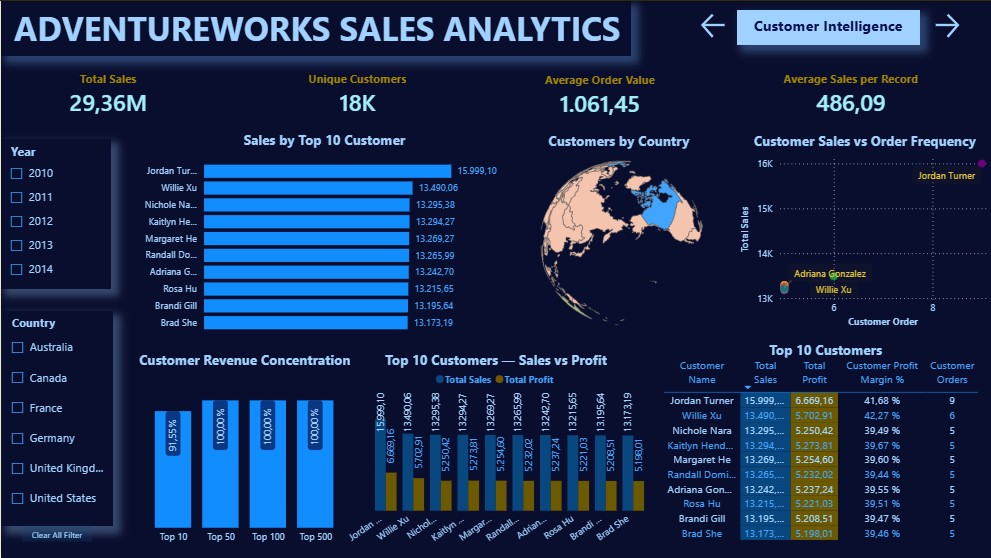

The dashboard page shown, as its layout file describes it:
{"tool":"powerbi","page":{"name":"Customer Intelligence","canvas":[1280,720],"ordinal":2},"visuals":[{"type":"cardVisual","fields":{"Data":["sales_featured.Average Order Value"]},"box":[638.2,72.6,268.5,96],"z":0,"group":"g1"},{"type":"slicer","fields":{"Values":["DimDate.Year"]},"box":[0,177.8,142.4,192.9],"z":0},{"type":"group","id":"g1","title":"Group 1","box":[0.8,70.9,1243.6,97.7],"z":1000},{"type":"textbox","box":[0,0,813.1,71.3],"z":2000},{"type":"cardVisual","fields":{"Data":["sales_featured.Total Sales"]},"box":[0.8,70.9,274.3,96],"z":2000,"group":"g1"},{"type":"cardVisual","fields":{"Data":["sales_featured.Unique Customers"]},"box":[261.2,71.3,396.1,96],"z":3000,"group":"g1"},{"type":"slicer","fields":{"Values":["sales_featured.Country"]},"box":[1.5,400,142.5,277.8],"z":3000},{"type":"textbox","box":[949.8,11.6,235.6,45.1],"z":4000},{"type":"cardVisual","fields":{"Data":["sales_featured.Average Sales per Record"]},"box":[949.5,71.1,294.9,96],"z":4000,"group":"g1"},{"type":"clusteredBarChart","title":"Sales by Top 10 Customer","fields":{"Category":["sales_featured.Customer Name"],"Y":["sales_featured.Total Sales"]},"box":[168.4,166.7,496.8,271.2],"z":5000},{"type":"shapeMap","title":"Customers by Country","fields":{"Category":["sales_featured.Country"],"Value":["sales_featured.Unique Customers"]},"box":[666.2,167.3,263.3,258.9],"z":6000},{"type":"lineClusteredColumnComboChart","title":"Customer Revenue Concentration","fields":{"Category":["Customer Concentration.Customer Group"],"Y":["Customer Concentration.Customer Concentration %"]},"box":[168.4,449.7,291.4,259.4],"z":7000},{"type":"clusteredColumnChart","title":"Top 10 Customers — Sales vs Profit","fields":{"Category":["sales_featured.Customer Name"],"Y":["sales_featured.Total Sales","sales_featured.Total Profit"]},"box":[427.8,449.7,421.1,259.4],"z":8000},{"type":"scatterChart","title":"Customer Sales vs Order Frequency","fields":{"Y":["sales_featured.Total Sales"],"X":["sales_featured.Customer Orders"],"Category":["sales_featured.Customer Name"]},"box":[949.8,167.3,330.2,258.9],"z":9000},{"type":"tableEx","title":"Top 10 Customers","fields":{"Values":["sales_featured.Customer Name","sales_featured.Total Sales","sales_featured.Total Profit","sales_featured.Customer Profit Margin %","sales_featured.Customer Orders"]},"box":[849.5,437.8,430.5,270.5],"z":10000},{"type":"actionButton","box":[1200,11.6,43.6,40.7],"z":11000},{"type":"actionButton","box":[897.5,11.6,43.6,40.7],"z":12000},{"type":"actionButton","box":[27.6,677.8,90.2,20.4],"z":12500}]}

Visuals, with their boxes in screenshot pixels (x1, y1, x2, y2), scaled from the page's 1280x720 canvas onto the 991x558 screenshot:
cardVisual - sales_featured.Average Order Value: <region>494, 56, 702, 131</region>
slicer - DimDate.Year: <region>0, 138, 110, 287</region>
"Group 1" group: <region>1, 55, 963, 131</region>
textbox: <region>0, 0, 630, 55</region>
cardVisual - sales_featured.Total Sales: <region>1, 55, 213, 129</region>
cardVisual - sales_featured.Unique Customers: <region>202, 55, 509, 130</region>
slicer - sales_featured.Country: <region>1, 310, 111, 525</region>
textbox: <region>735, 9, 918, 44</region>
cardVisual - sales_featured.Average Sales per Record: <region>735, 55, 963, 130</region>
"Sales by Top 10 Customer" clusteredBarChart: <region>130, 129, 515, 339</region>
"Customers by Country" shapeMap: <region>516, 130, 720, 330</region>
"Customer Revenue Concentration" lineClusteredColumnComboChart: <region>130, 349, 356, 550</region>
"Top 10 Customers — Sales vs Profit" clusteredColumnChart: <region>331, 349, 657, 550</region>
"Customer Sales vs Order Frequency" scatterChart: <region>735, 130, 990, 330</region>
"Top 10 Customers" tableEx: <region>658, 339, 990, 549</region>
actionButton: <region>929, 9, 963, 41</region>
actionButton: <region>695, 9, 729, 41</region>
actionButton: <region>21, 525, 91, 541</region>
